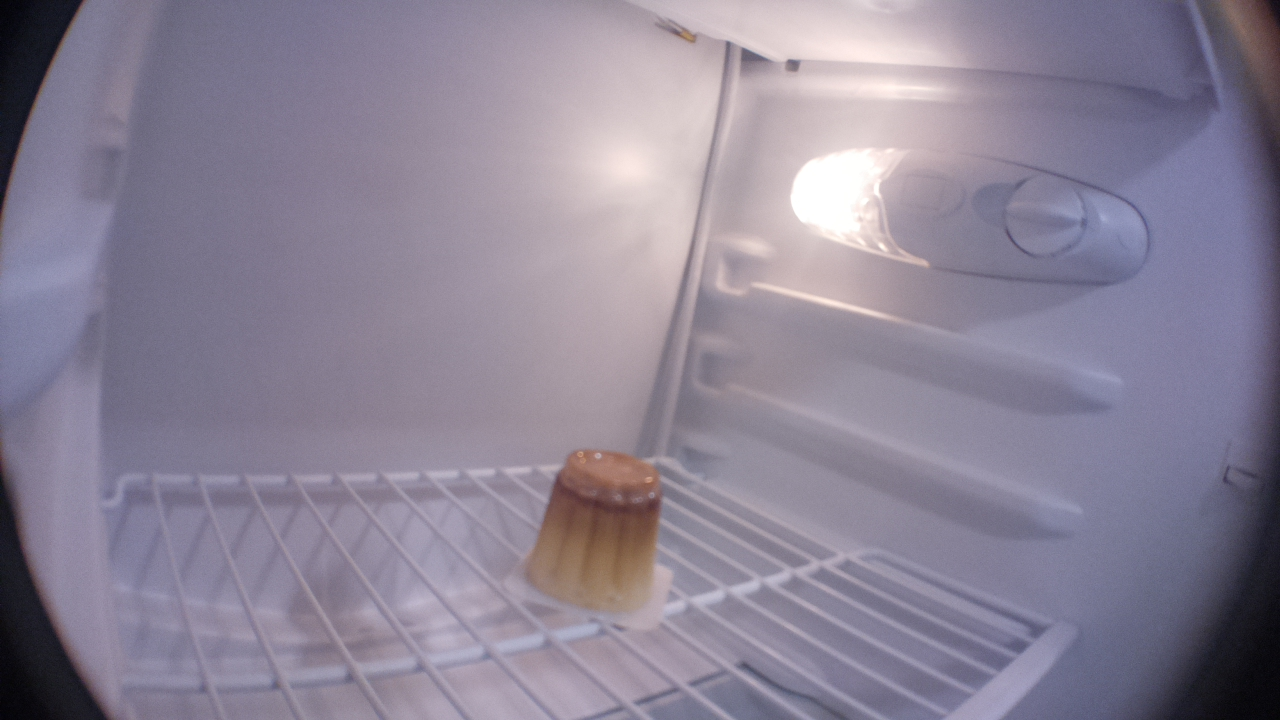caramel: (497, 444, 688, 636)
